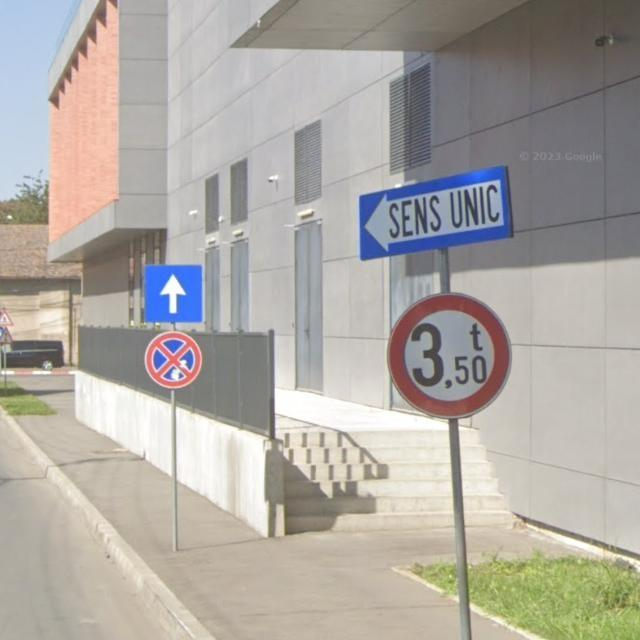forb_waiting: (143, 331, 201, 389)
